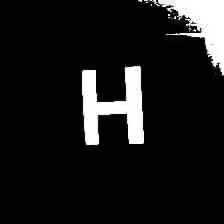LTR_H: (73, 60, 147, 148)
